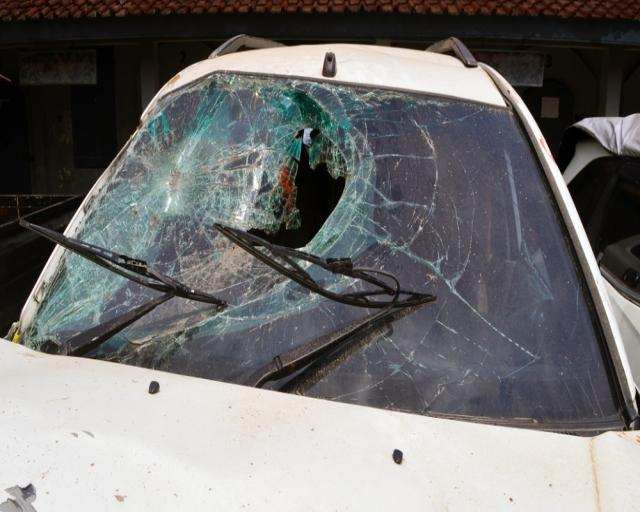glass shatter: (17, 72, 622, 424)
